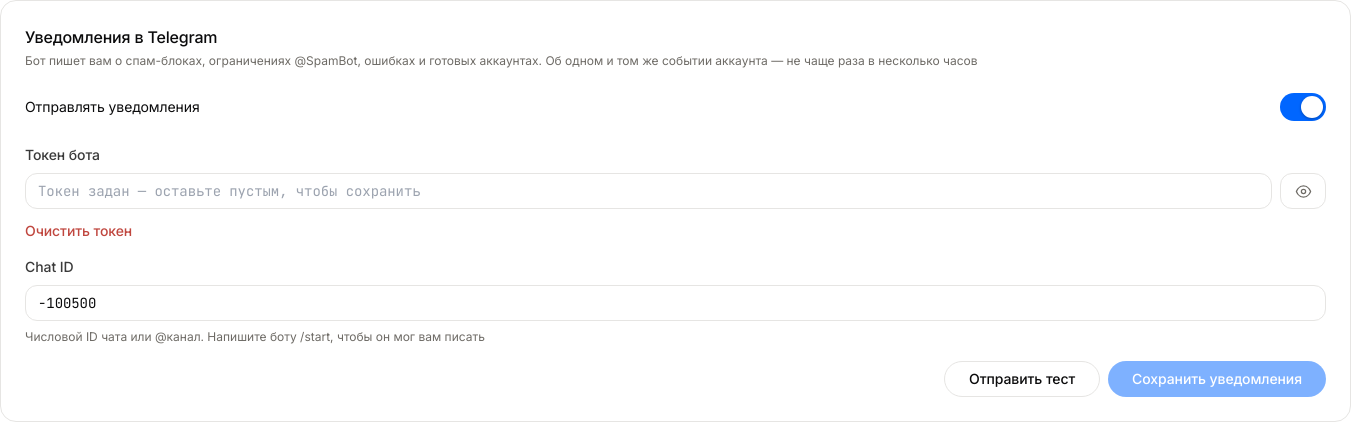
Scenario: shows the stored token only as a mask and never asks for it back
Expected: the password field with placeholder "Токен задан — оставьте пустым, чтобы сохранить" is empty, [25,173,1272,209]
Expected: the switch named "Отправлять уведомления" is checked, [1280,93,1326,121]
Click the button named "Показать/скрыть токен". click: click(1303, 191)
box: [1280,173,1326,209]
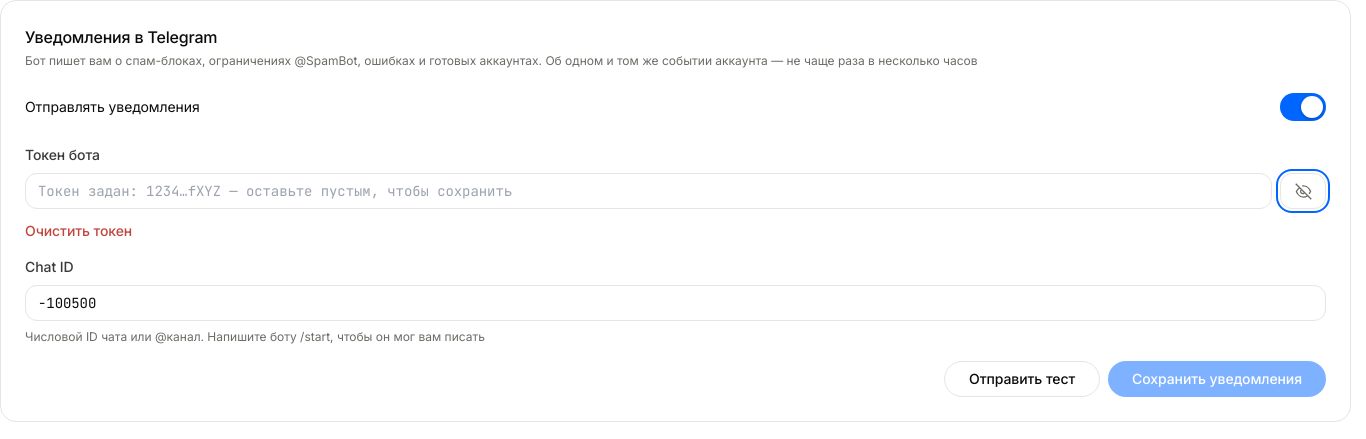
Expected: the field with placeholder "Токен задан: 1234…fXYZ — оставьте пустым, чтобы сохранить" is shown, [25,173,1272,209]
